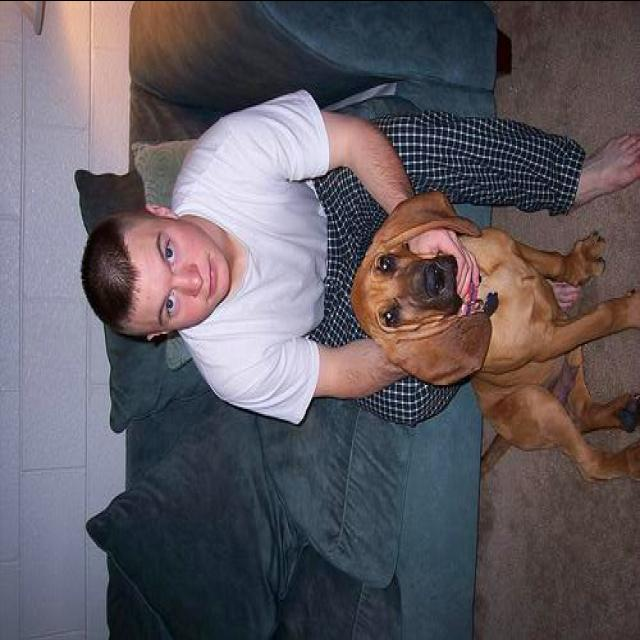bloodhound: (350, 184, 638, 488)
